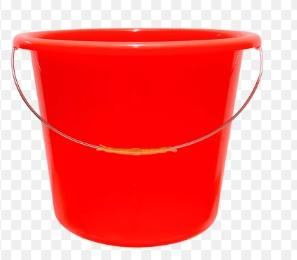SEAU: (7, 7, 291, 260)
